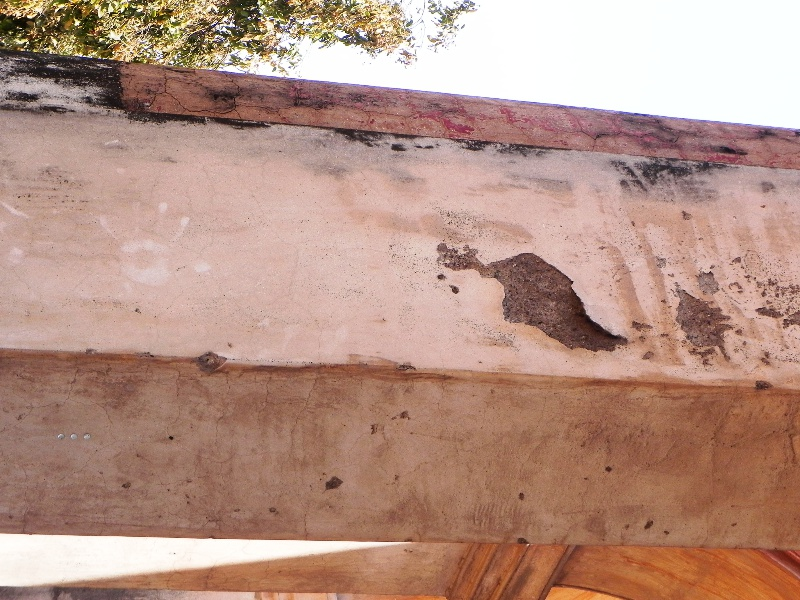Spalling: (430, 236, 632, 356), (667, 257, 735, 366)
